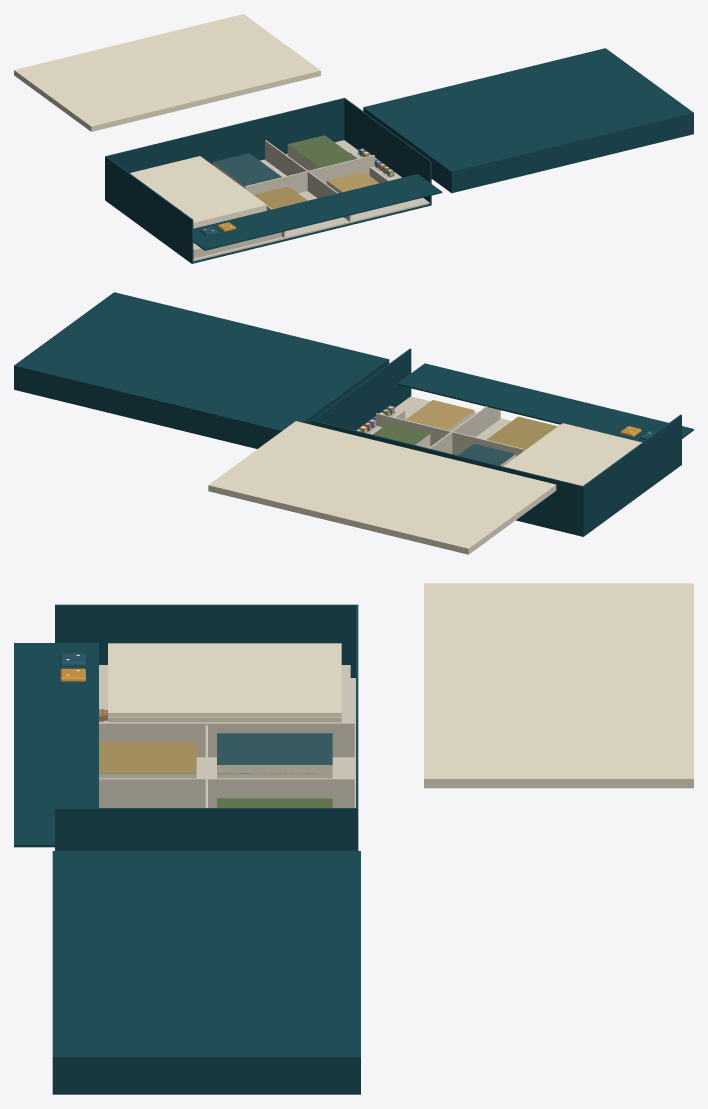
3 views of the same model, one above another, from view 1: azimuth 30°, elevation 25°; view 2: azimuth 150°, elevation 25°; view 3: azimuth 270°, elevation 25° (orthographic). The views are drawn at different scales.
Parts seen in each view (by area): view 1: box-1; view 2: box-1; view 3: box-1.
Boxes of the visible parts, x1,y1,x2,y2 form: box-1: [14, 14, 693, 263]; box-1: [14, 292, 693, 554]; box-1: [14, 583, 693, 1094].
Size of the model in its own units: 0.786 by 0.088 by 0.529.
